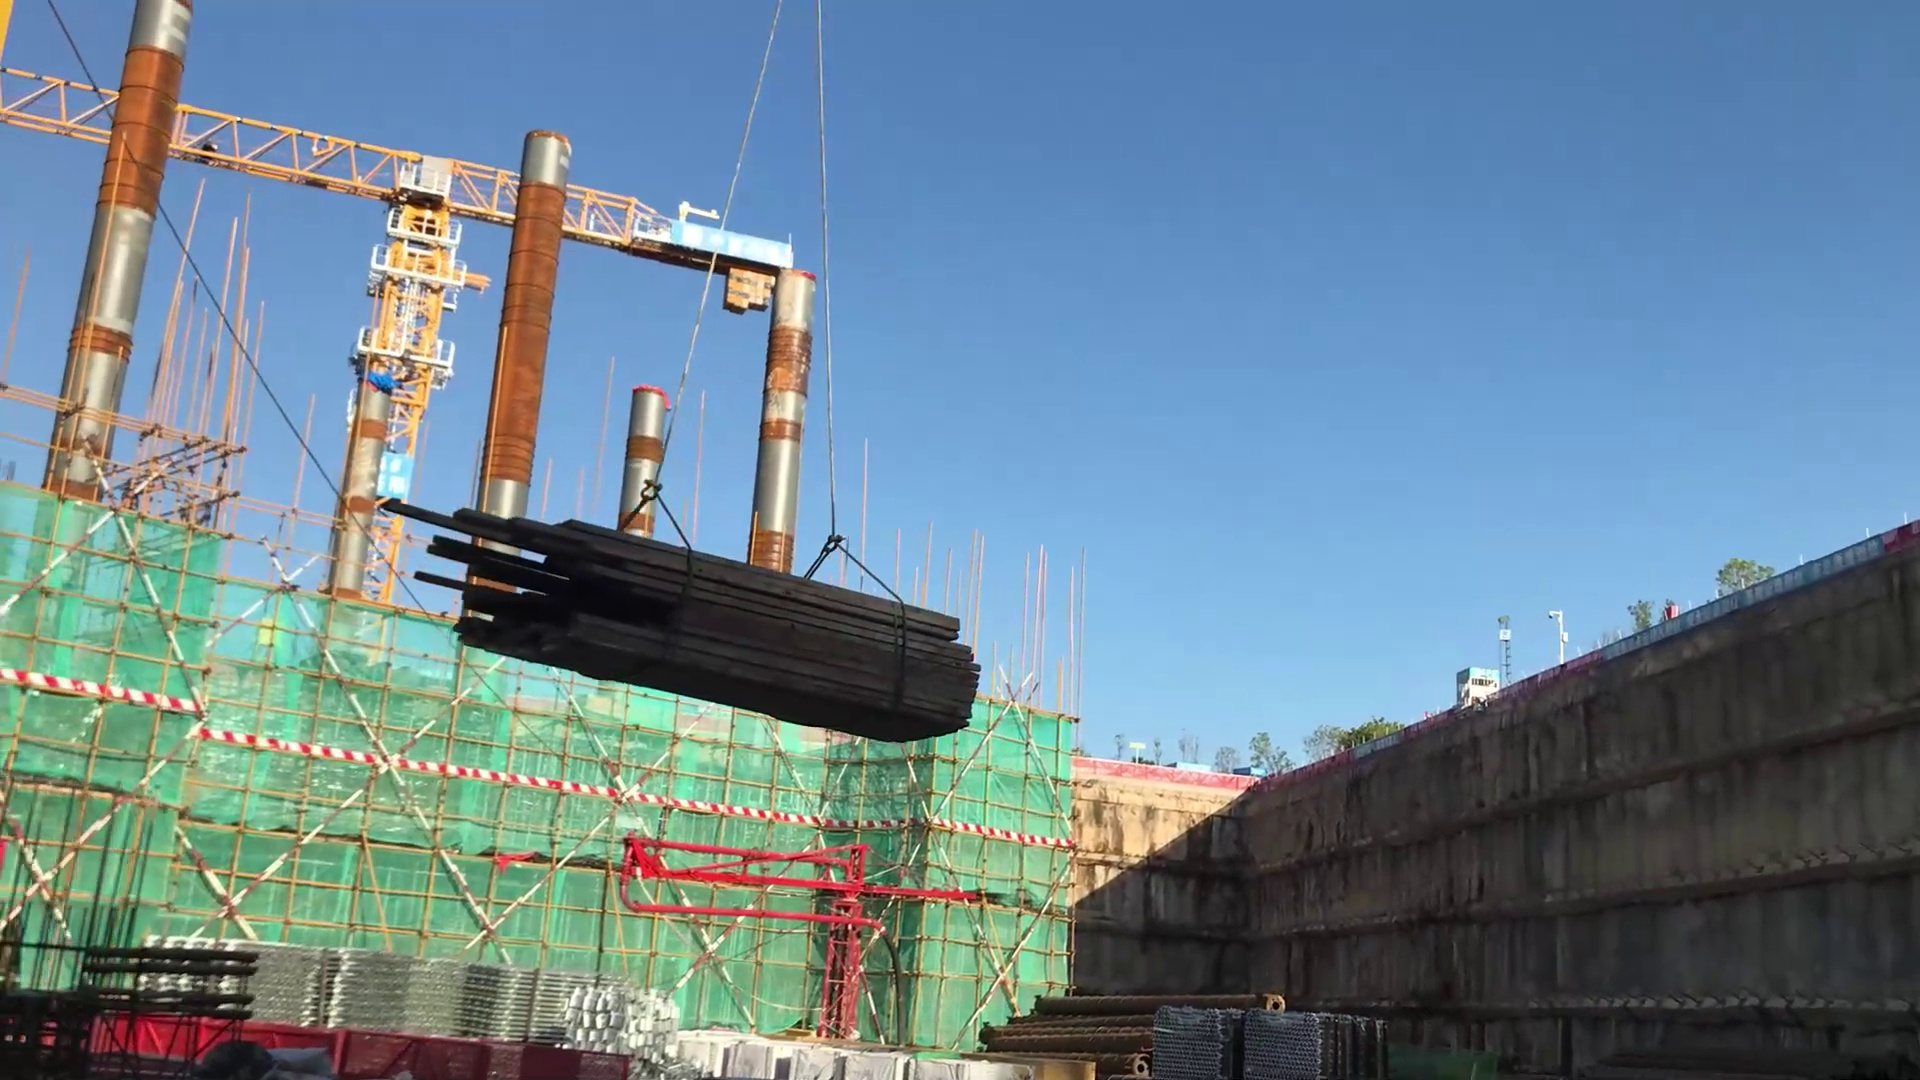scaffold: (119, 918, 709, 1077)
wood: (373, 495, 990, 752)
